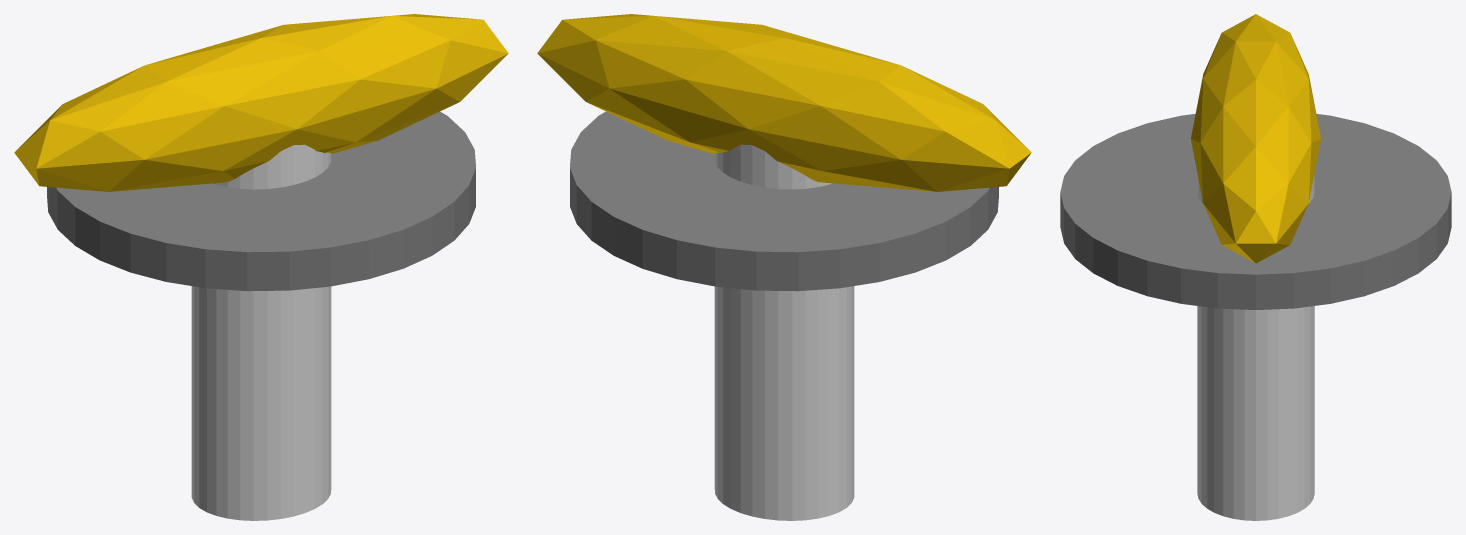
The model's file is handle1.fbx.
3 renders of one model, left to right at view 1: azimuth 30°, elevation 25°; view 2: azimuth 150°, elevation 25°; view 3: azimuth 270°, elevation 25°, orthographic. The views are drawn at different scales.
Parts seen in each view (by area): view 1: Handle, Base; view 2: Handle, Base; view 3: Base, Handle.
Part boxes in pixels (x1,y1,x2,y2): Handle: (14, 14, 508, 520); Base: (47, 111, 475, 291); Handle: (537, 14, 1031, 520); Base: (570, 111, 998, 291); Base: (1060, 114, 1451, 309); Handle: (1191, 14, 1320, 520).
Size of the model in its own units: 7.61 by 7 by 6.
